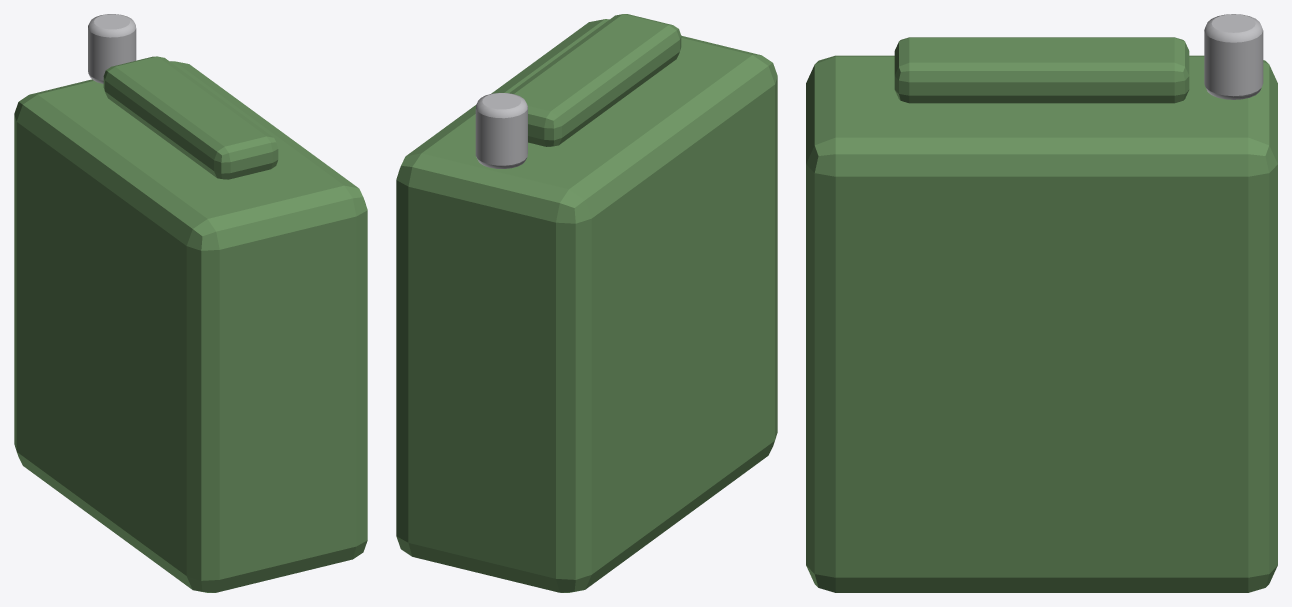
The model's file is jerrycan.glb.
The picture shows the model from 3 angles, left to right: view 1: azimuth 30°, elevation 25°; view 2: azimuth 150°, elevation 25°; view 3: azimuth 270°, elevation 25°; orthographic projection. The views are drawn at different scales.
Parts seen in each view (by area): view 1: jerrycan; view 2: jerrycan; view 3: jerrycan.
Boxes of the visible parts, box(x1,y1,x2,y2) form: jerrycan: box(14, 14, 367, 592); jerrycan: box(396, 14, 777, 592); jerrycan: box(806, 14, 1277, 592).
Bounding box in the file's own units: 0.17 × 0.395 × 0.32.
